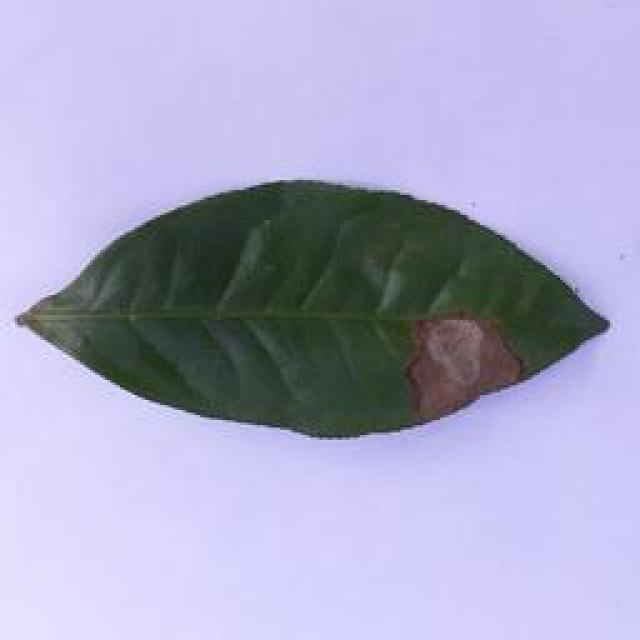Gray Blight: (13, 178, 622, 448)
